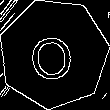O_N: (29, 25, 78, 82)
